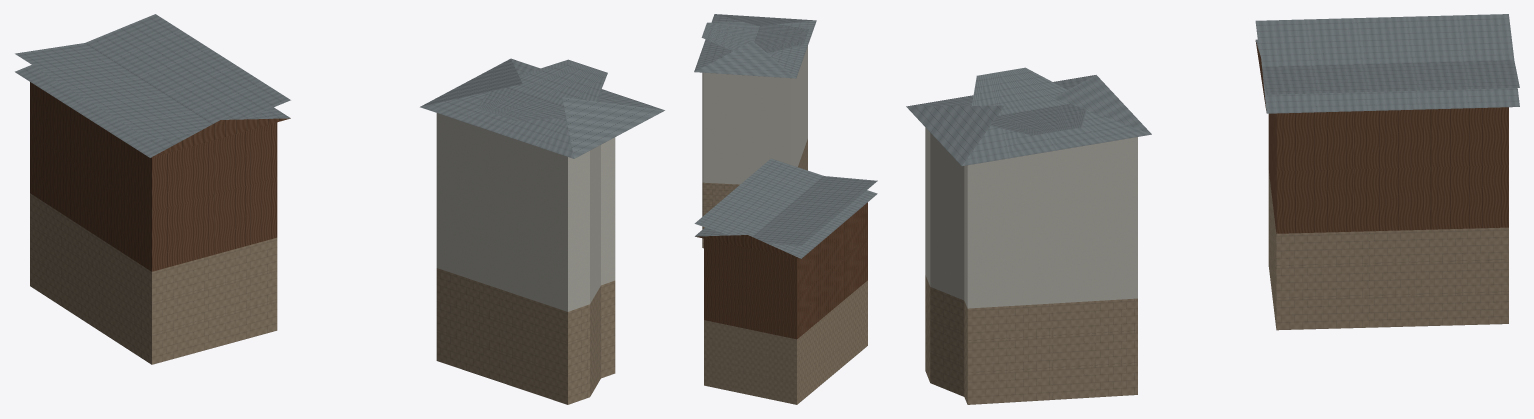
Rendered from bld_c32_-38_452.gltf.
3 renders of one model, left to right at view 1: azimuth 30°, elevation 25°; view 2: azimuth 150°, elevation 25°; view 3: azimuth 270°, elevation 25°, orthographic. The views are drawn at different scales.
Parts seen in each view (by area): view 1: bld_c32_-38_452; view 2: bld_c32_-38_452; view 3: bld_c32_-38_452.
Boxes of the visible parts, x1=… form: bld_c32_-38_452: x1=15, y1=14, x2=664, y2=404; bld_c32_-38_452: x1=694, y1=14, x2=877, y2=404; bld_c32_-38_452: x1=906, y1=14, x2=1519, y2=404.
Size of the model in its own units: 22.21 by 16 by 29.44.
Materials: 5 (5 with a texture image).
